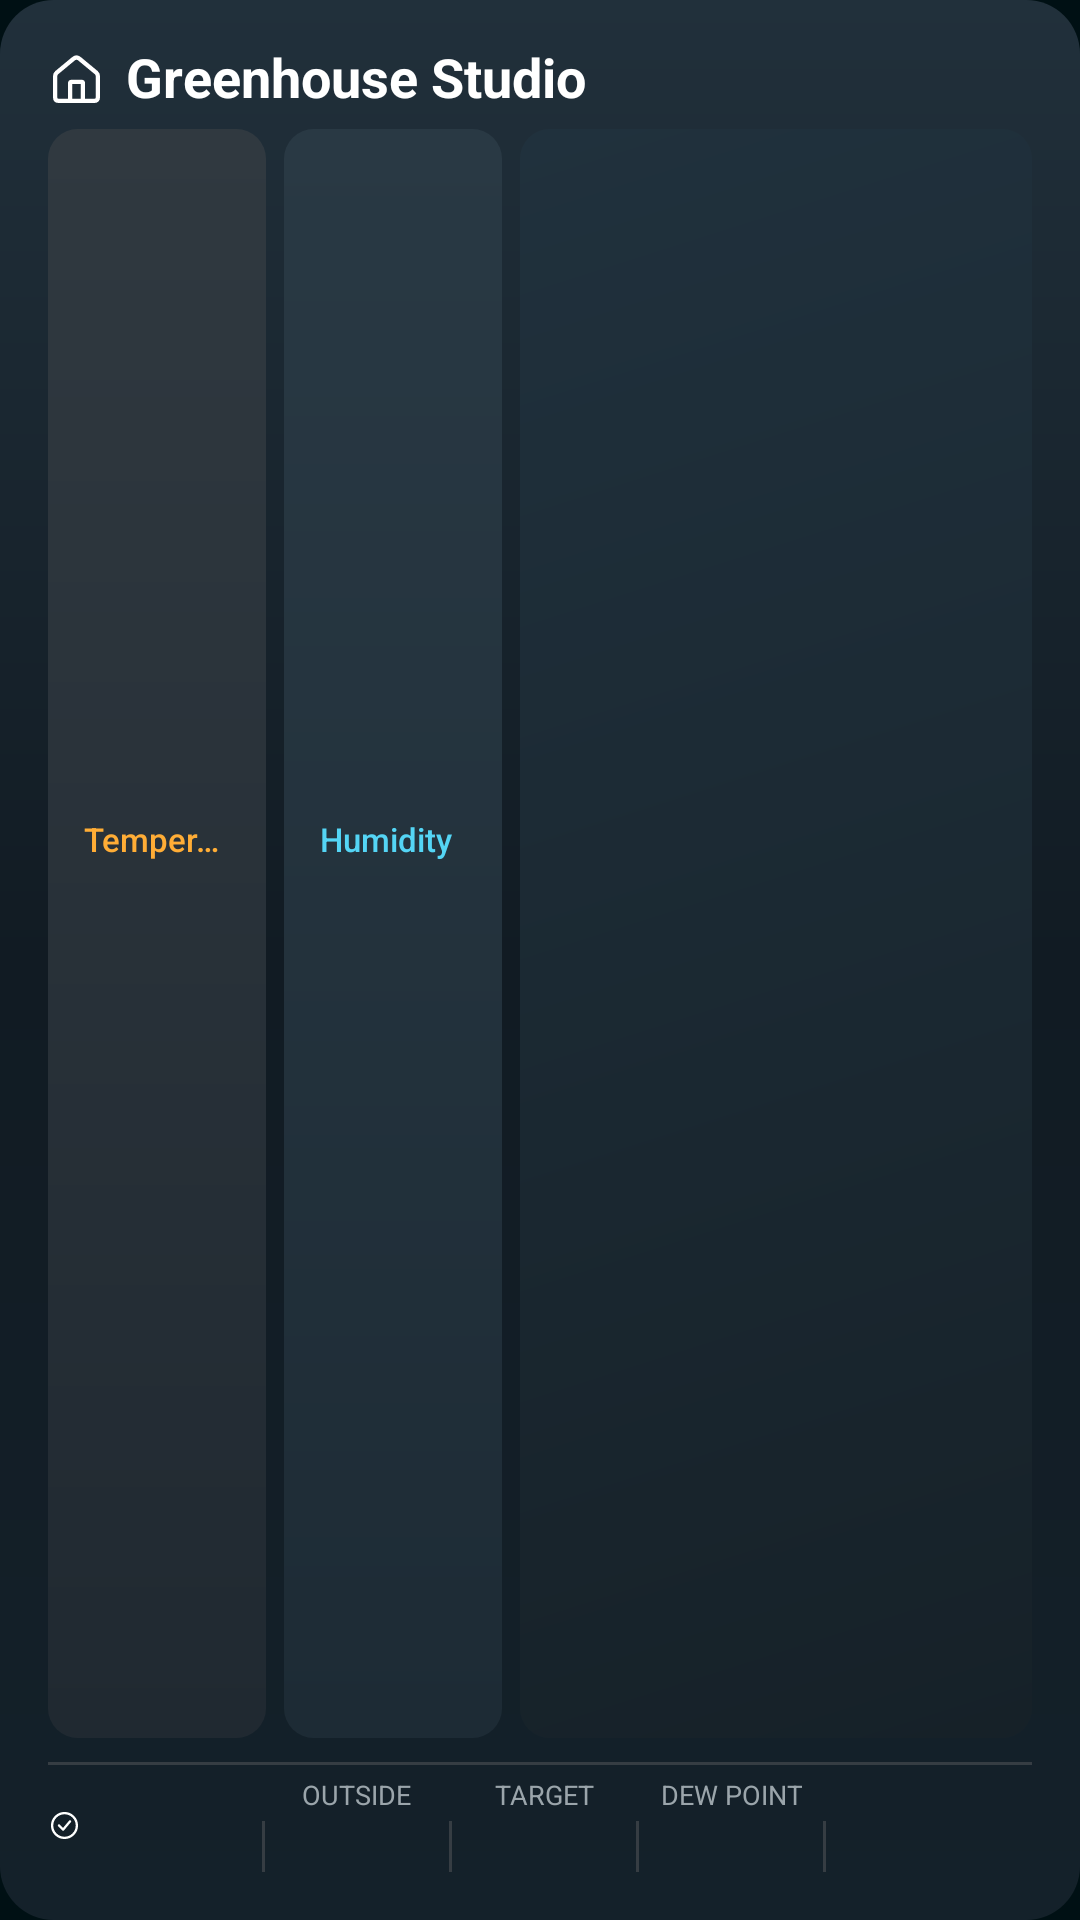

Point at icon controls on the screen. Image size 1080×1920, points as (x,y).
climate check circle: (64,1825)
widget house: (76,79)
